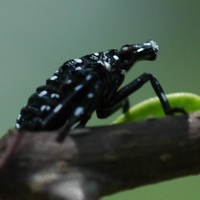insect: (16, 40, 186, 141)
